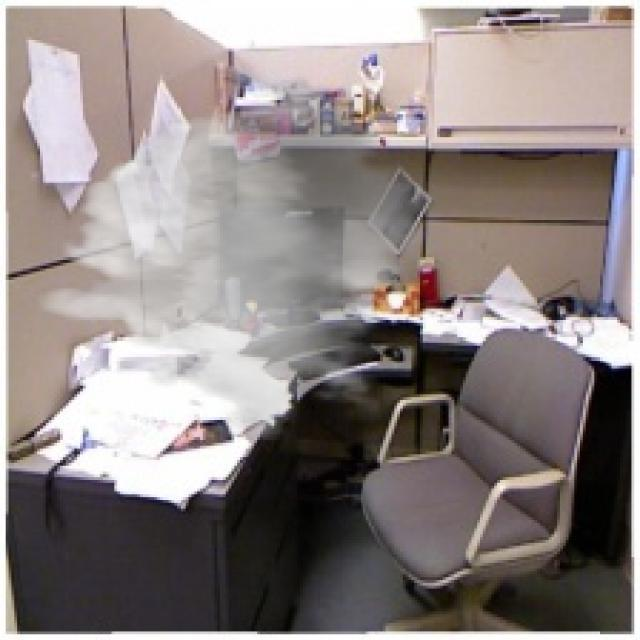Smoke: (31, 74, 448, 440)
